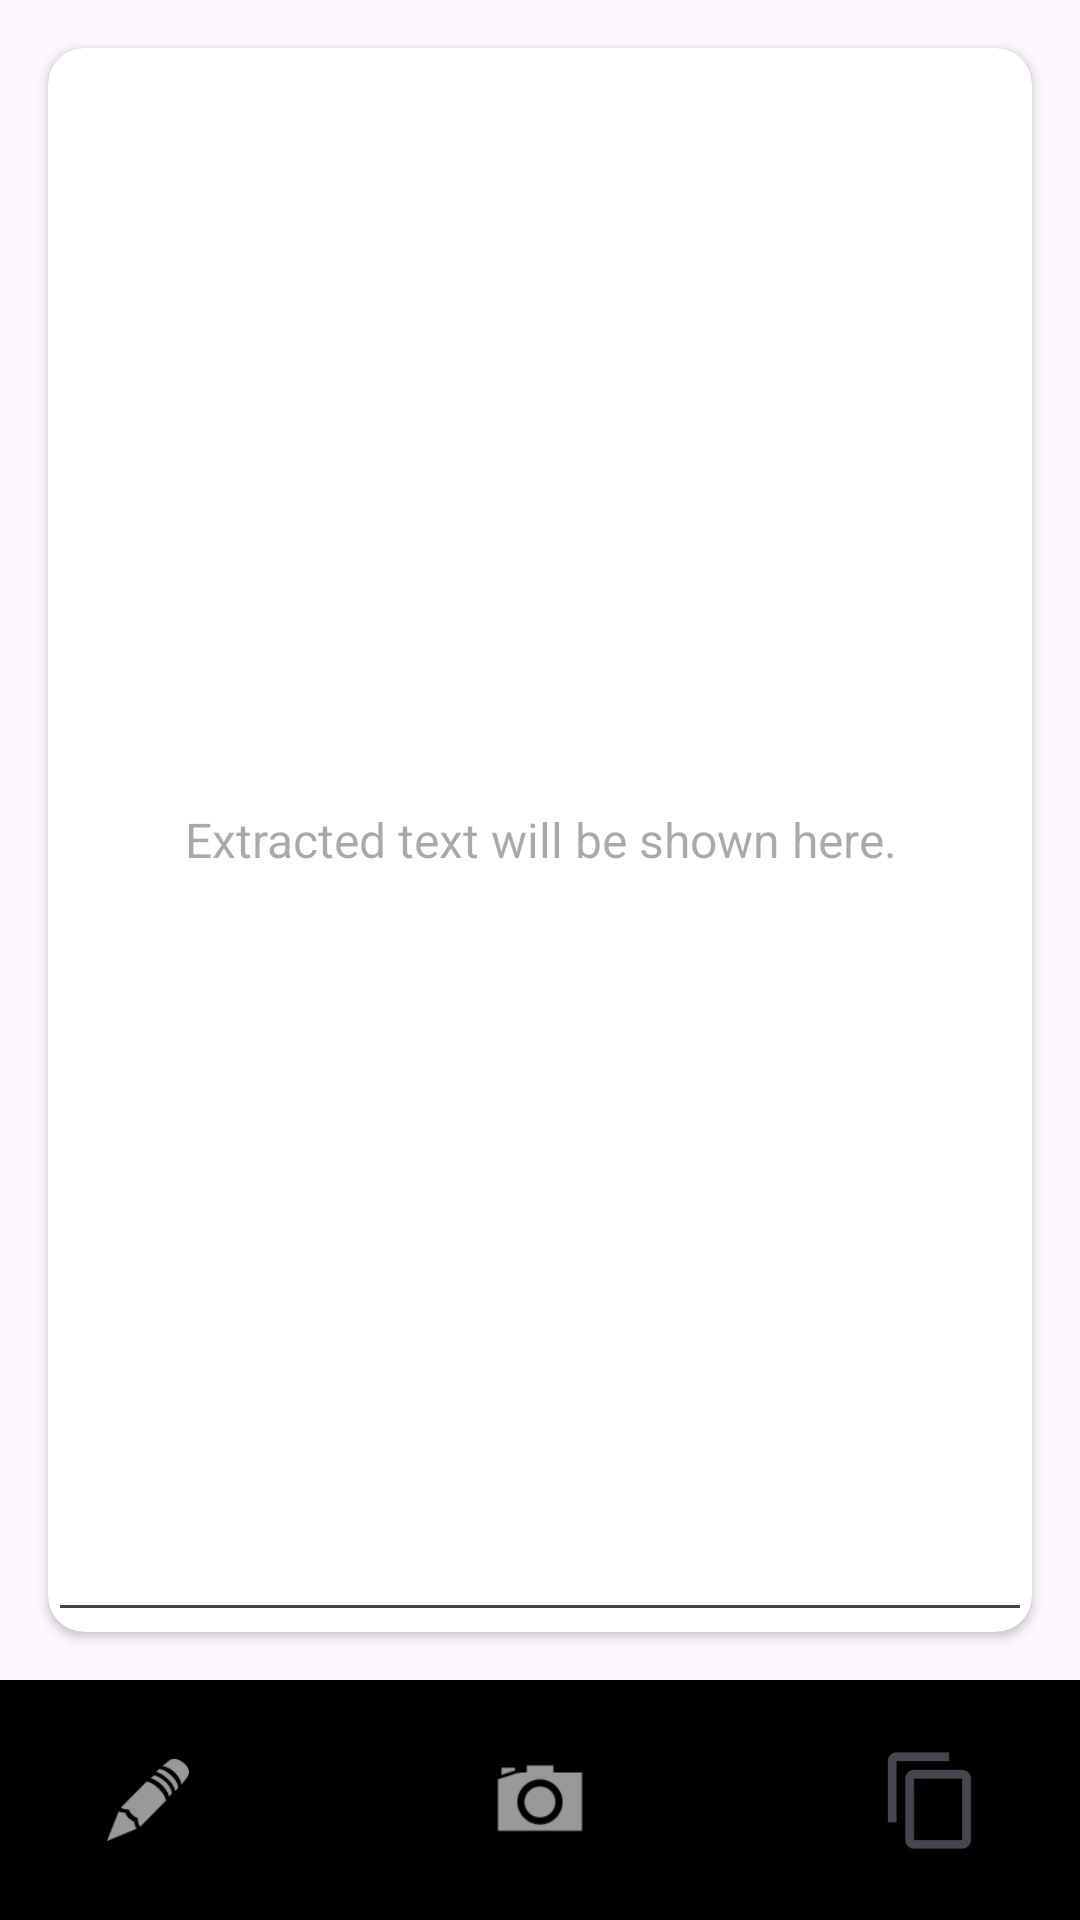

Point at icon controls on the screen. Image size 1080*1920, points as (x,y).
Camera: (540,1798)
Copy: (929,1800)
